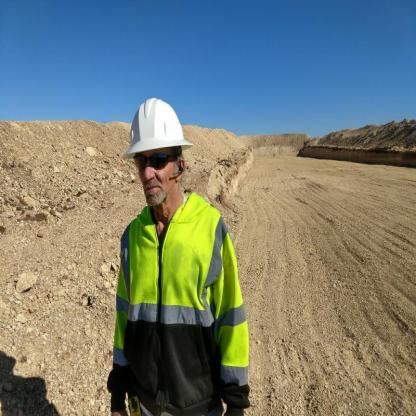person: (85, 81, 251, 415)
